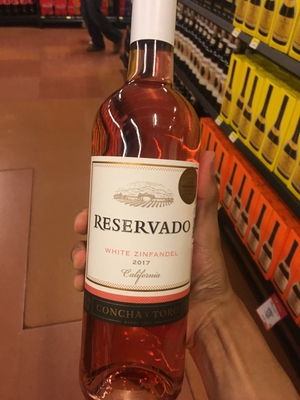reservado white zinfandel: (80, 15, 196, 400)
